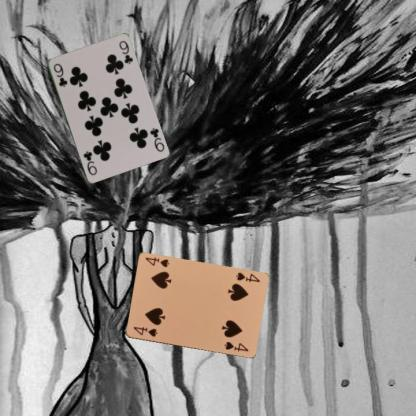4s: (131, 324, 158, 338), (233, 270, 260, 284)
9c: (148, 125, 166, 153), (51, 61, 68, 88)
